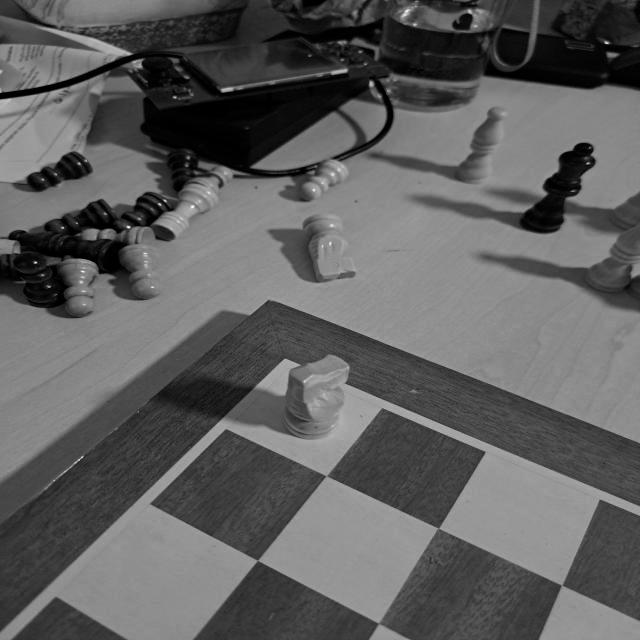chess-table-corners: (272, 350, 300, 368)
